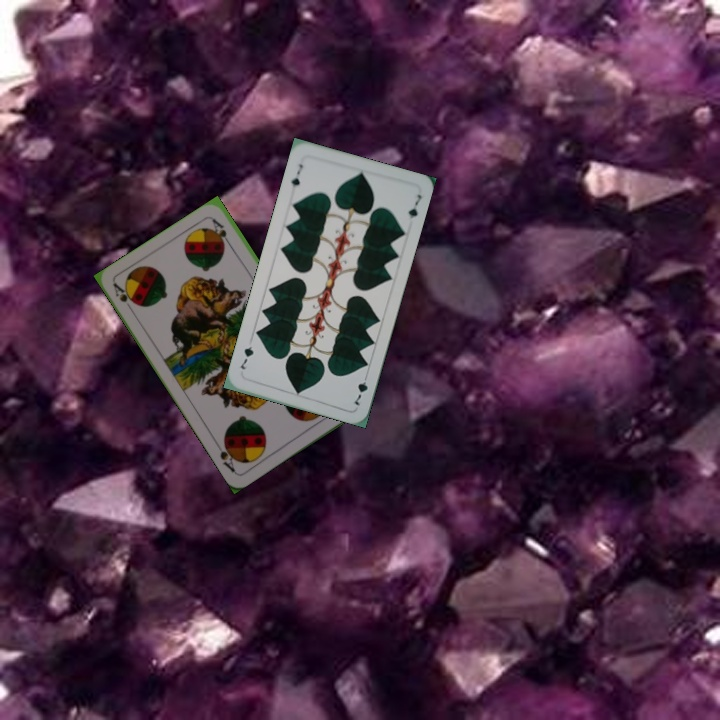G7: (350, 369, 371, 408), (287, 160, 306, 194)
SA: (109, 279, 139, 316)
